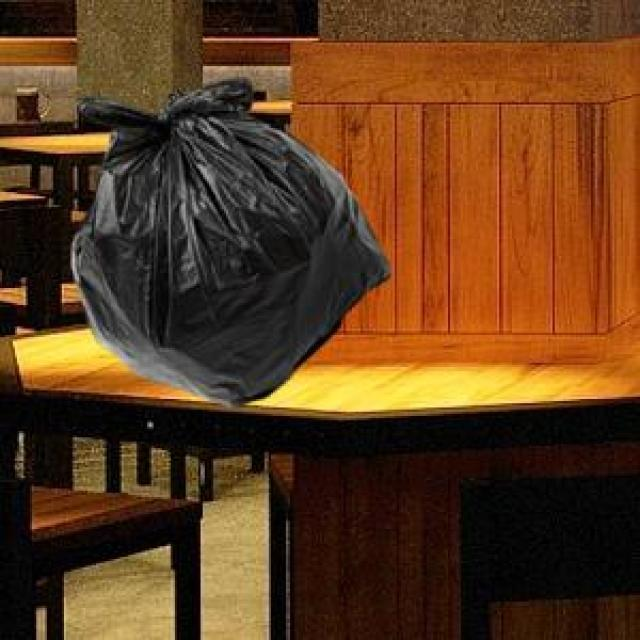miscellaneous trash: (68, 73, 386, 403)
